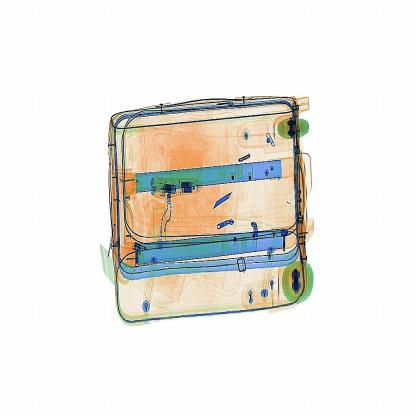pliers: (197, 183, 242, 214)
